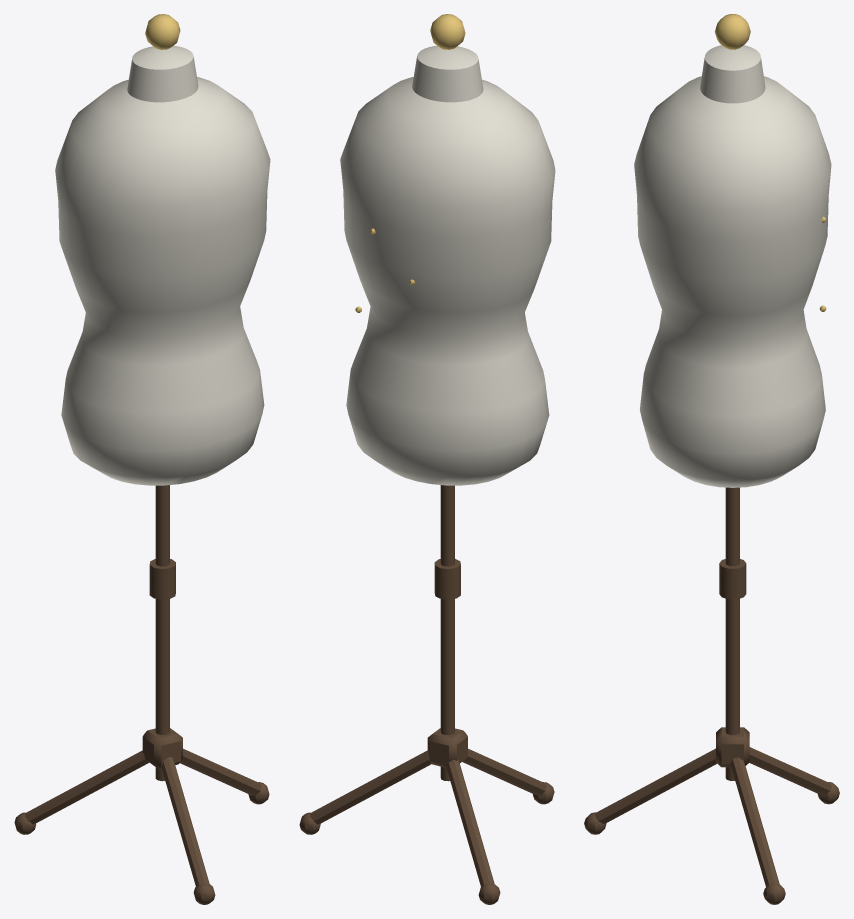
Rendered from tea_manichino.fbx.
3 renders of one model, left to right at view 1: azimuth 30°, elevation 25°; view 2: azimuth 150°, elevation 25°; view 3: azimuth 270°, elevation 25°, orthographic.
Parts seen in each view (by area): view 1: tea_manichino_lenzuolo, tea_manichino_legno, tea_manichino_ottone; view 2: tea_manichino_lenzuolo, tea_manichino_legno, tea_manichino_ottone; view 3: tea_manichino_lenzuolo, tea_manichino_legno, tea_manichino_ottone.
Part boxes in pixels (bbox=[...]): tea_manichino_lenzuolo: bbox=[55, 45, 270, 485]; tea_manichino_legno: bbox=[14, 485, 269, 904]; tea_manichino_ottone: bbox=[145, 14, 180, 49]; tea_manichino_lenzuolo: bbox=[340, 45, 555, 485]; tea_manichino_legno: bbox=[299, 485, 554, 904]; tea_manichino_ottone: bbox=[355, 14, 465, 312]; tea_manichino_lenzuolo: bbox=[634, 45, 831, 487]; tea_manichino_legno: bbox=[584, 487, 839, 904]; tea_manichino_ottone: bbox=[715, 14, 826, 311].
Bounding box in the file's own units: 0.4622 × 1.63 × 0.4537.
